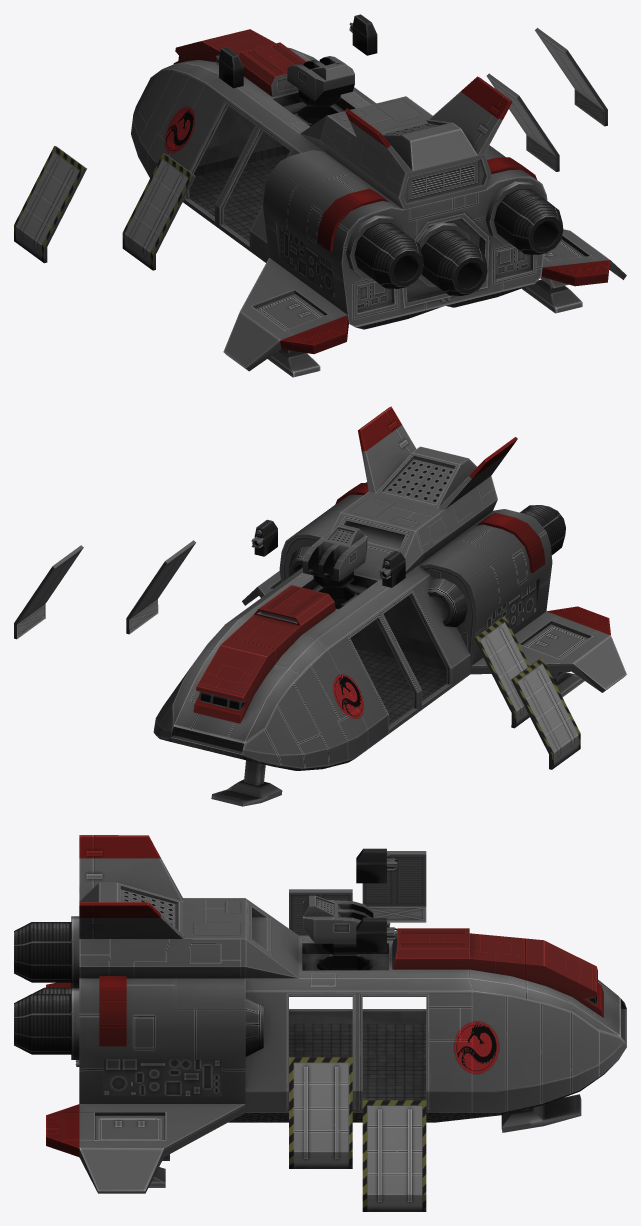
The model's file is leopard_exp.FBX.
3 views of the same model, one above another, from view 1: azimuth 30°, elevation 25°; view 2: azimuth 150°, elevation 25°; view 3: azimuth 270°, elevation 25° (orthographic). The views are drawn at different scales.
Parts seen in each view (by area): view 1: hull, door4, door3, turret_1, door1, door2, gear2, gear3, mantlet_2, mantlet_1; view 2: hull, door3, turret_1, door4, door2, door1, gear1, mantlet_2, mantlet_1; view 3: hull, door1, door2, door3, turret_1, gear1, mantlet_2, mantlet_1, door4.
Part boxes in pixels (bbox=[...]): hull: bbox=[131, 29, 626, 371]; door4: bbox=[122, 153, 195, 270]; door3: bbox=[14, 146, 86, 263]; turret_1: bbox=[287, 56, 354, 106]; door1: bbox=[535, 28, 607, 126]; door2: bbox=[486, 73, 559, 171]; gear2: bbox=[522, 279, 582, 313]; gear3: bbox=[267, 349, 320, 377]; mantlet_2: bbox=[349, 14, 377, 55]; mantlet_1: bbox=[215, 47, 243, 88]; hull: bbox=[153, 406, 626, 770]; door3: bbox=[511, 658, 580, 769]; turret_1: bbox=[303, 524, 367, 587]; door4: bbox=[473, 616, 529, 728]; door2: bbox=[126, 540, 195, 634]; door1: bbox=[14, 545, 83, 639]; gear1: bbox=[211, 760, 282, 806]; mantlet_2: bbox=[251, 519, 277, 556]; mantlet_1: bbox=[379, 551, 405, 587]; hull: bbox=[14, 835, 626, 1193]; door1: bbox=[362, 1100, 426, 1211]; door2: bbox=[289, 1057, 352, 1168]; door3: bbox=[362, 851, 426, 922]; turret_1: bbox=[303, 895, 373, 955]; gear1: bbox=[501, 1094, 581, 1132]; mantlet_2: bbox=[356, 917, 397, 952]; mantlet_1: bbox=[356, 848, 397, 883]; door4: bbox=[289, 889, 352, 935].
Bounding box in the file's own units: 383 × 156 × 342.
Materials: 1 (1 with a texture image).
